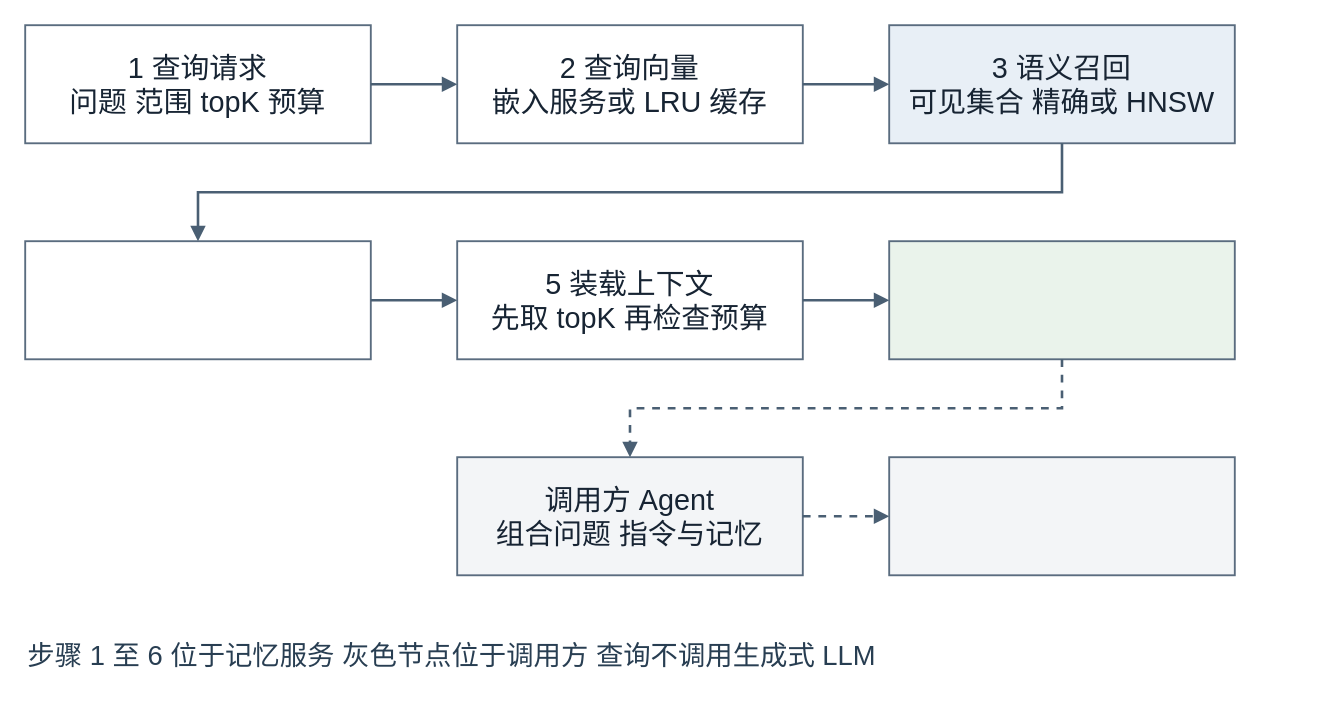
The diagram is 1318 pixels wide and 706 high, and some of its shapes have lost their labels. Here are the shapes that lost their labels. From the top down, the centre of each, then its label:
[197,300]: 4 排序 相似度 可选本地重排
[1061,300]: 6 返回记忆 文本 分数 来源 耗时
[1061,516]: 回答模型 生成面向用户的答案
